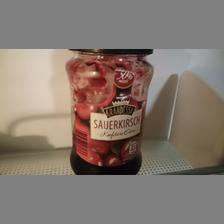Marmelade: (64, 48, 156, 176)
